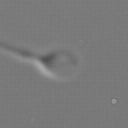normal: (1, 39, 41, 69)
